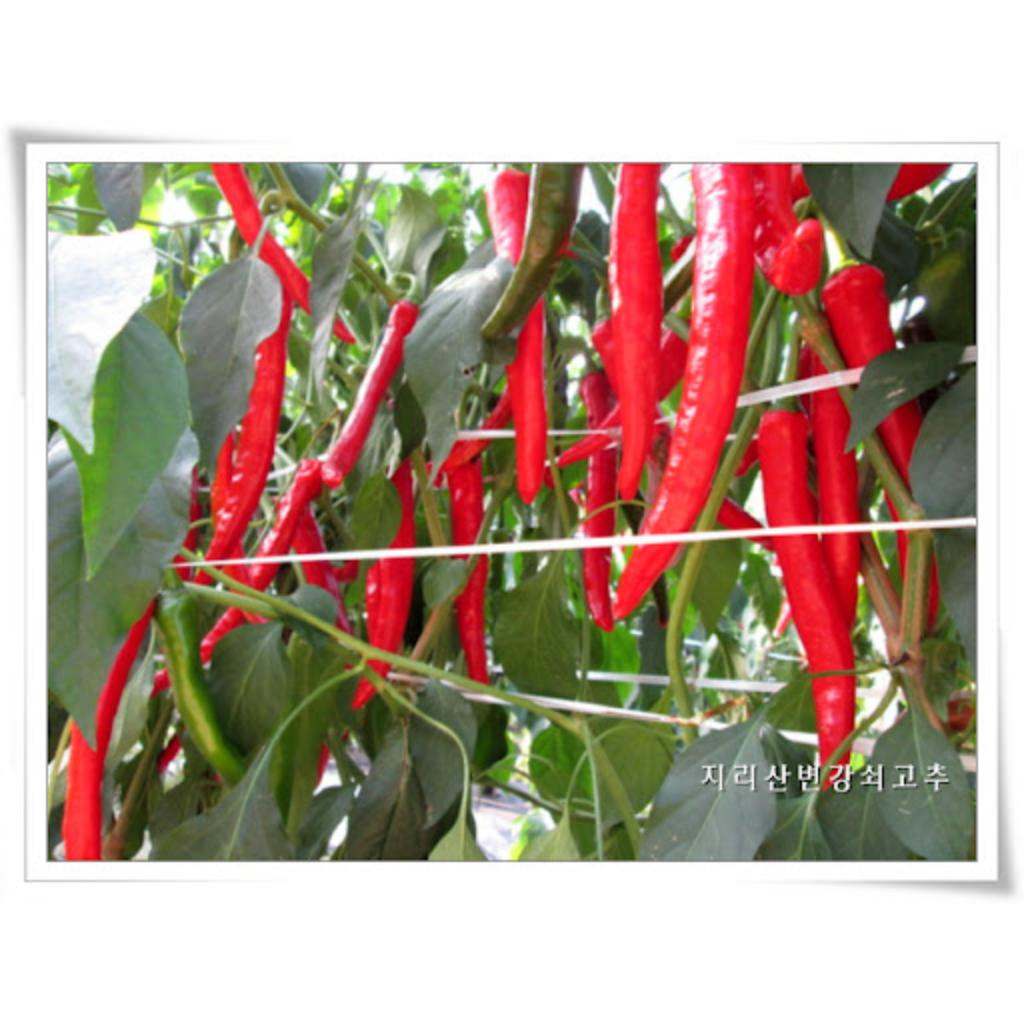chili: (640, 166, 756, 533), (62, 600, 155, 859), (206, 292, 292, 559), (483, 168, 548, 503), (774, 536, 856, 763), (610, 164, 664, 499), (322, 302, 418, 487), (758, 410, 816, 527), (810, 390, 860, 523), (612, 544, 675, 618), (366, 558, 414, 651), (213, 164, 262, 245), (260, 232, 310, 311), (825, 534, 860, 625), (448, 458, 484, 545), (392, 458, 414, 547), (352, 680, 376, 707), (336, 320, 354, 341)
